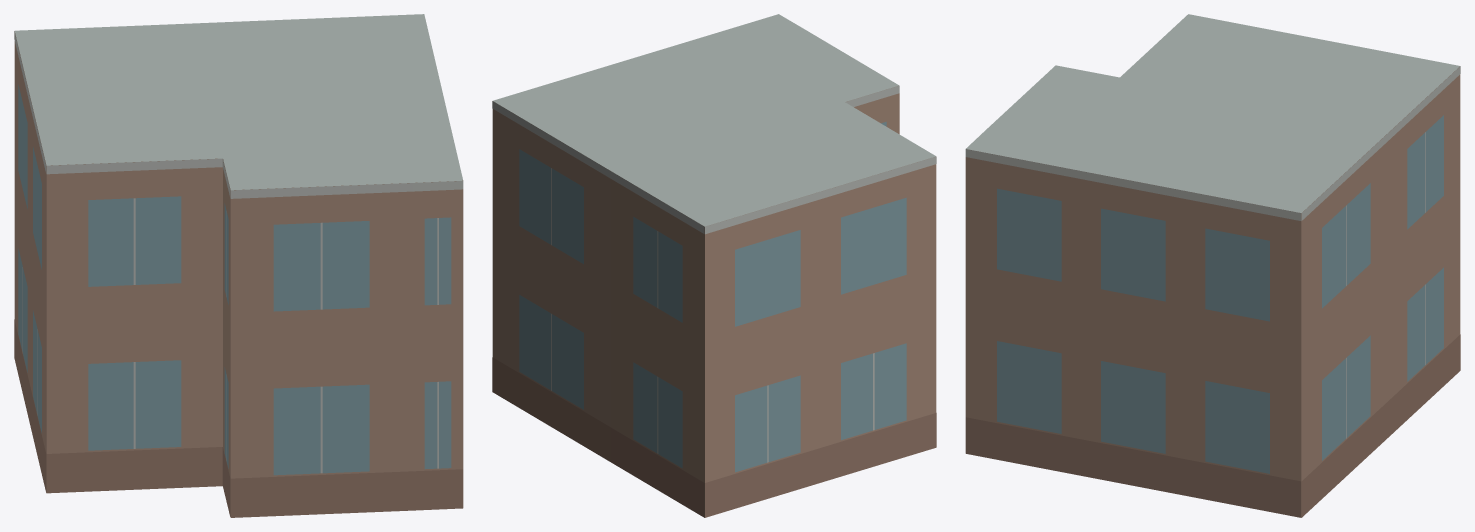
Rendered from survey-upis-32936203.glb.
3 views of the same model, side by side, from view 1: azimuth 30°, elevation 25°; view 2: azimuth 150°, elevation 25°; view 3: azimuth 270°, elevation 25° (orthographic). The views are drawn at different scales.
Parts seen in each view (by area): view 1: survey-upis-32936203.tmp; view 2: survey-upis-32936203.tmp; view 3: survey-upis-32936203.tmp.
Boxes of the visible parts, x1,y1,x2,y2 form: survey-upis-32936203.tmp: (14, 14, 463, 517); survey-upis-32936203.tmp: (492, 14, 936, 517); survey-upis-32936203.tmp: (965, 14, 1460, 517).
Bounding box in the file's own units: 12.9 × 9.2 × 13.55.
